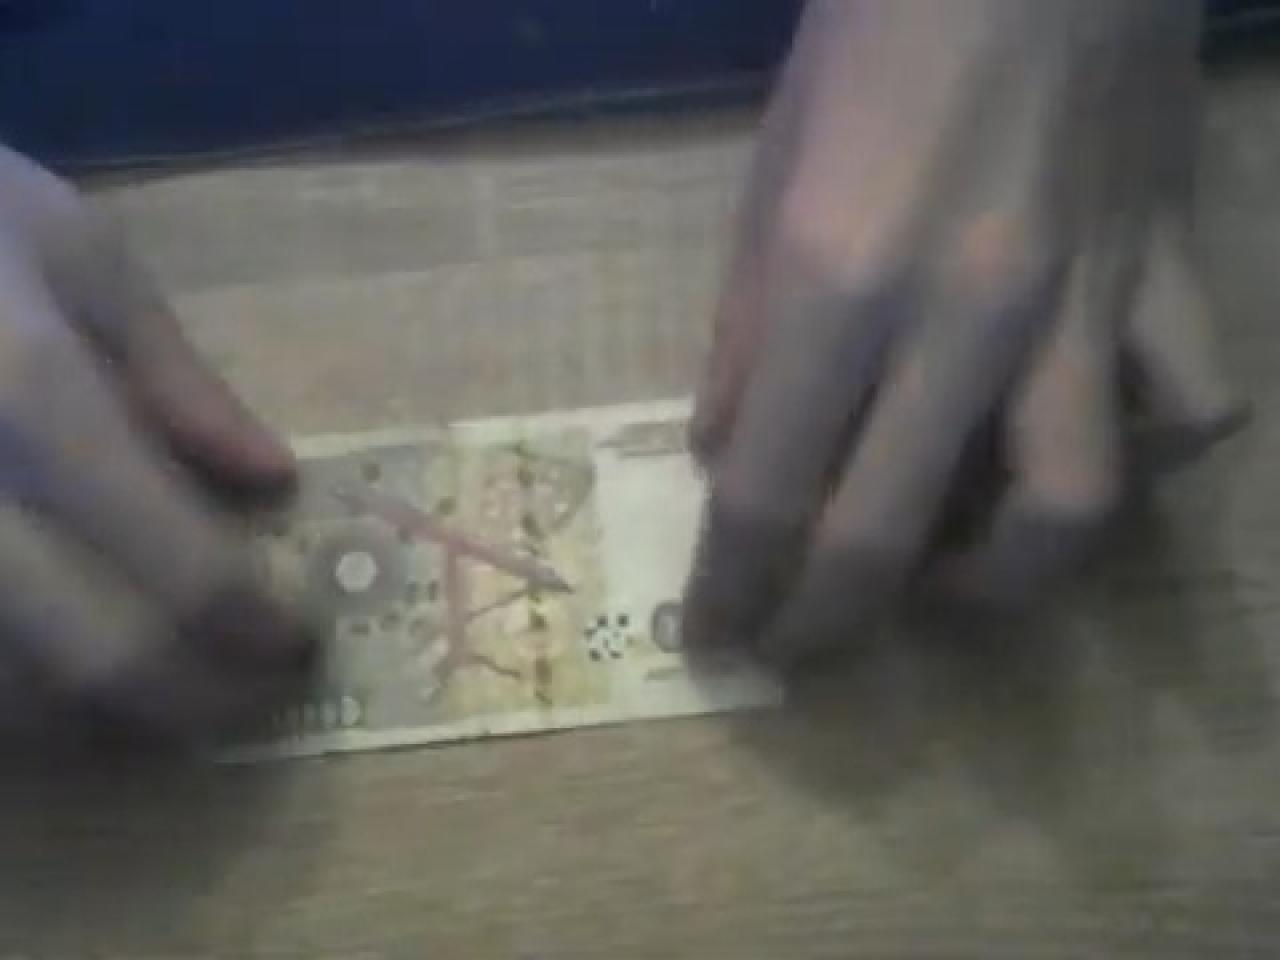10leva: (309, 397, 703, 744)
